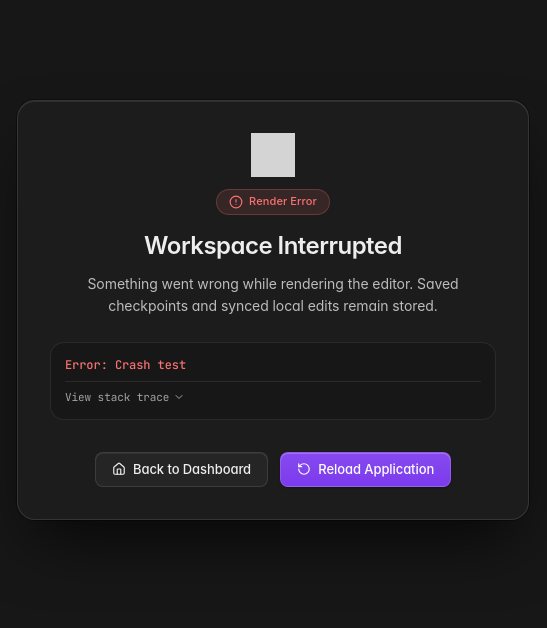
Test: AuthPage, Dashboard, App Routing & UI Primitives Button/Feature Interactions › UI Primitives (Dialog, ErrorBoundary, ThemeToggle, IconButton) › ErrorBoundary toggles stack trace and triggers Reload / Back buttons, and ThemeToggle/IconButton work
This screenshot has width=547, height=628.
Later steps or results of the test are not shown.
Expected: the heading "Workspace Interrupted" is shown, [144,231,402,261]
Expected: the text "Error: Crash test" is shown, [65,357,186,373]
Click the button "View stack trace" at (125, 397), box [65,390,185,405]
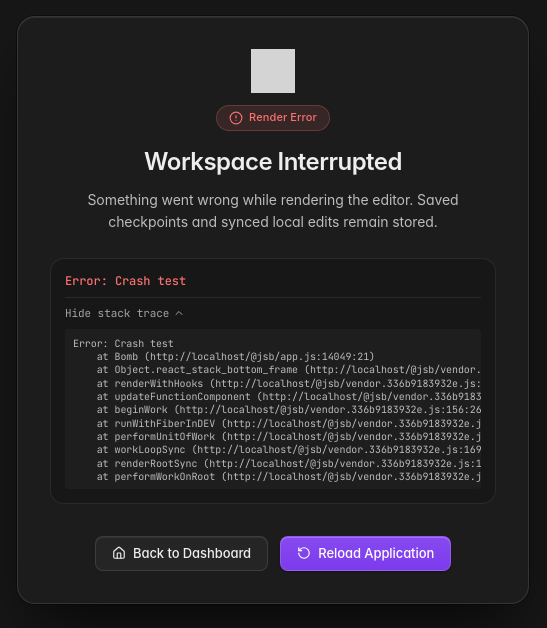
Expected: the button "Back to Dashboard" is shown, [95,536,268,571]
Expected: the button "Hide stack trace" is shown, [65,306,185,321]
